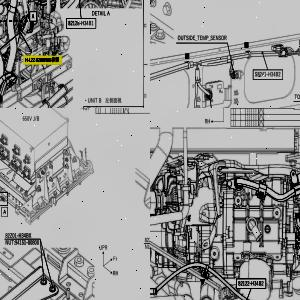PartNumber: (238, 280, 264, 287), (4, 232, 32, 238), (68, 20, 94, 26), (255, 71, 280, 77), (14, 240, 39, 246), (144, 237, 150, 243)
